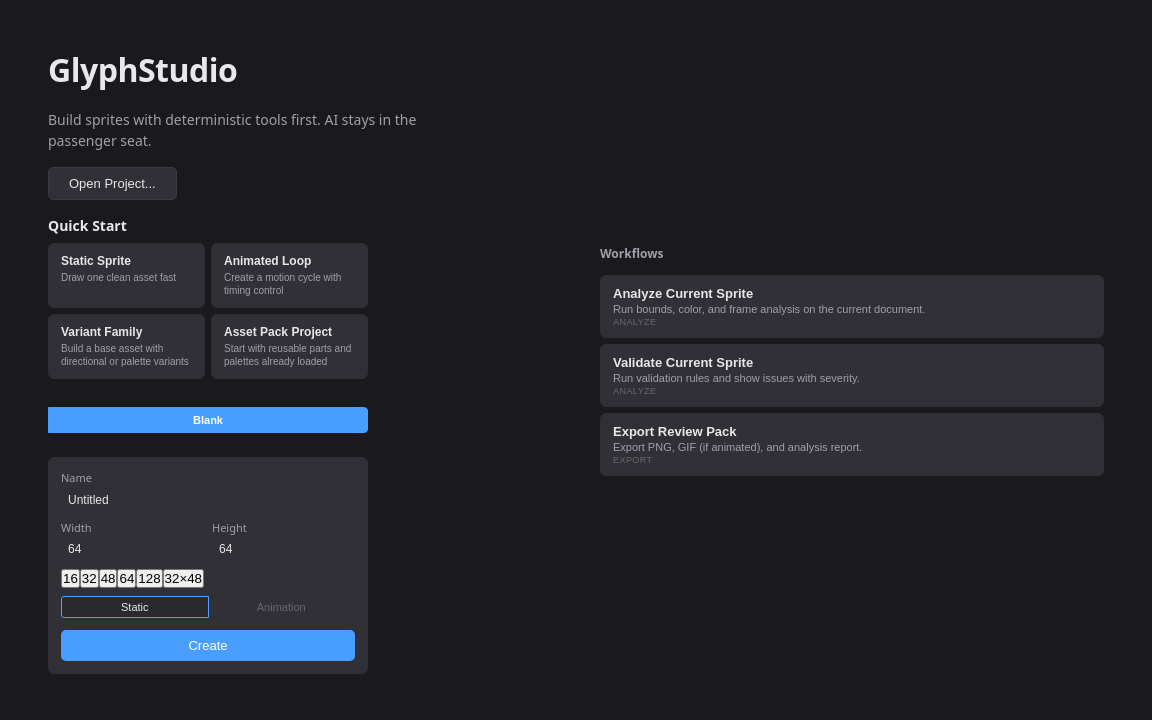
Test: ProjectHome › interactions › 32×48 preset sets asymmetric dimensions
Step 1. Click the button with test id "preset-32×48" → [183, 579], box x1=163 y1=569 x2=204 y2=588
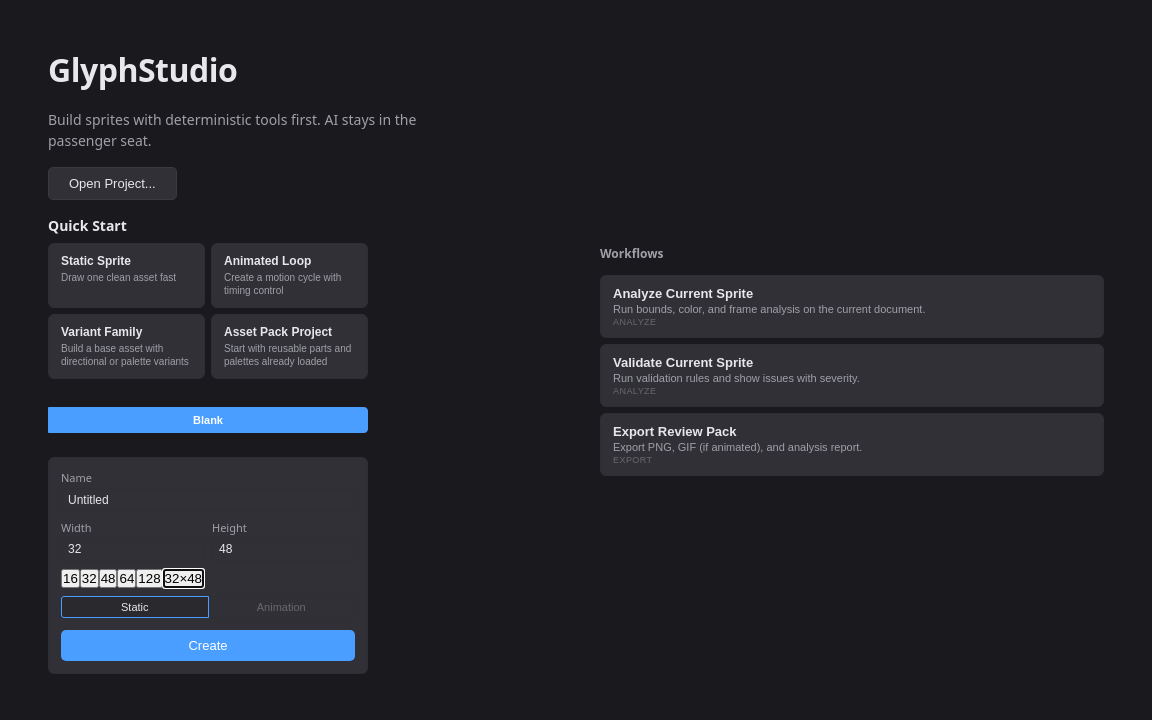
Expected: the number field with test id "create-width" holds "32", x1=61 y1=537 x2=204 y2=561
Expected: the number field with test id "create-height" holds "48", x1=212 y1=537 x2=355 y2=561
